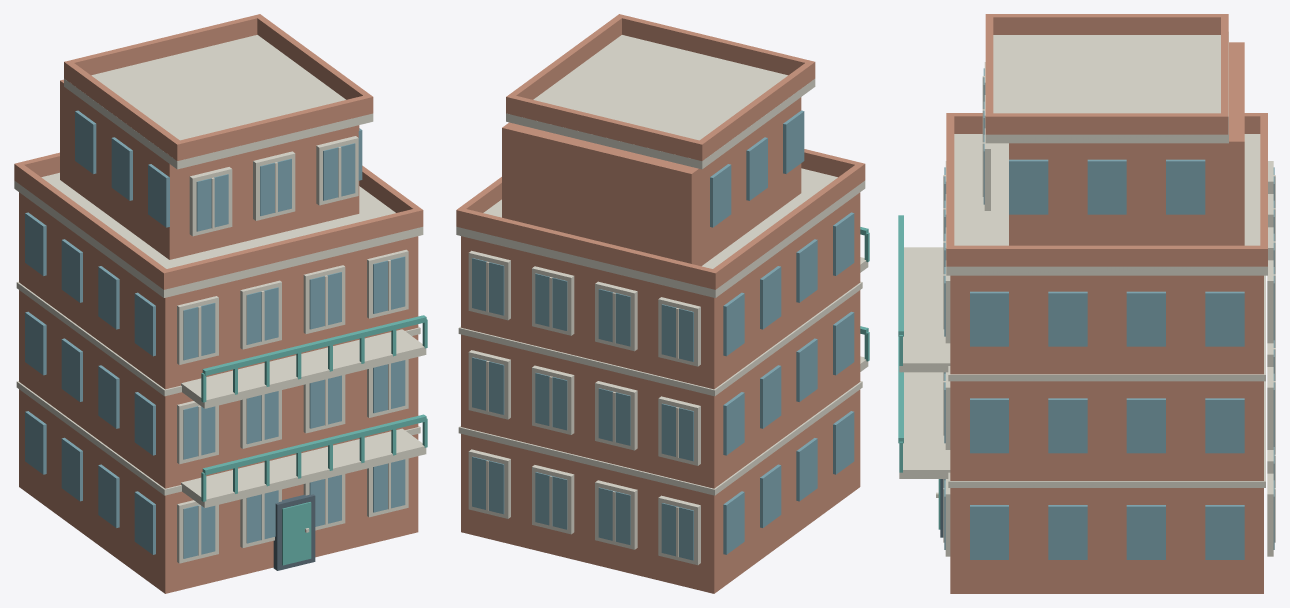
The picture shows the model from 3 angles, left to right: view 1: azimuth 30°, elevation 25°; view 2: azimuth 150°, elevation 25°; view 3: azimuth 270°, elevation 25°; orthographic projection. The views are drawn at different scales.
Parts seen in each view (by area): view 1: terraced-penthouse-brick, terraced-penthouse-concrete, terraced-penthouse-glass, terraced-penthouse-accent, terraced-penthouse-dark; view 2: terraced-penthouse-brick, terraced-penthouse-concrete, terraced-penthouse-glass; view 3: terraced-penthouse-brick, terraced-penthouse-concrete, terraced-penthouse-glass, terraced-penthouse-accent.
Part boxes in pixels (x1,y1,x2,y2): terraced-penthouse-brick: (14,14,423,593); terraced-penthouse-concrete: (14,35,426,563); terraced-penthouse-glass: (25,110,405,558); terraced-penthouse-accent: (201,315,427,565); terraced-penthouse-dark: (273,494,315,570); terraced-penthouse-brick: (456,14,865,593); terraced-penthouse-concrete: (456,35,868,565); terraced-penthouse-glass: (472,110,854,560); terraced-penthouse-brick: (946,14,1267,593); terraced-penthouse-concrete: (899,32,1275,556); terraced-penthouse-glass: (944,68,1274,559); terraced-penthouse-accent: (898,215,940,529).
Bounding box in the file's own units: 8.2 × 13 × 9.62.
